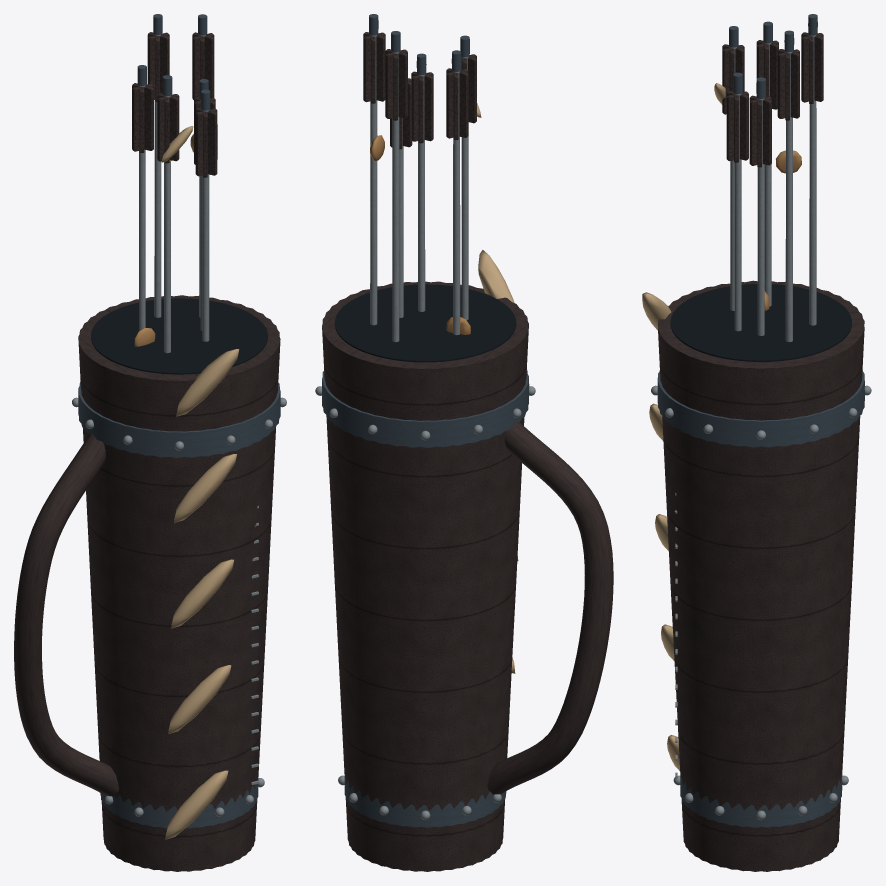
3 renders of one model, left to right at view 1: azimuth 30°, elevation 25°; view 2: azimuth 150°, elevation 25°; view 3: azimuth 270°, elevation 25°, orthographic. The views are drawn at different scales.
Parts seen in each view (by area): view 1: saddle leather, recess shadow, machined receiver, thread loop, edge hardware; view 2: saddle leather, edge hardware, recess shadow, machined receiver, thread loop; view 3: saddle leather, machined receiver, recess shadow, edge hardware, thread loop.
Part boxes in pixels (box(x1,y1,x2,y2)): saddle leather: box(14, 32, 280, 871); recess shadow: box(91, 298, 267, 374); machined receiver: box(78, 14, 280, 828); thread loop: box(162, 126, 239, 839); edge hardware: box(72, 34, 286, 816); saddle leather: box(322, 32, 613, 871); edge hardware: box(315, 35, 535, 820); recess shadow: box(334, 284, 516, 362); machined receiver: box(322, 14, 529, 827); thread loop: box(477, 103, 518, 673); saddle leather: box(658, 32, 864, 871); machined receiver: box(657, 14, 864, 827); recess shadow: box(670, 284, 851, 361); edge hardware: box(651, 35, 871, 820); thread loop: box(642, 83, 725, 770).
Bounding box in the file's own units: 0.1935 × 0.561 × 0.1413.
6 materials, 3 textured.
